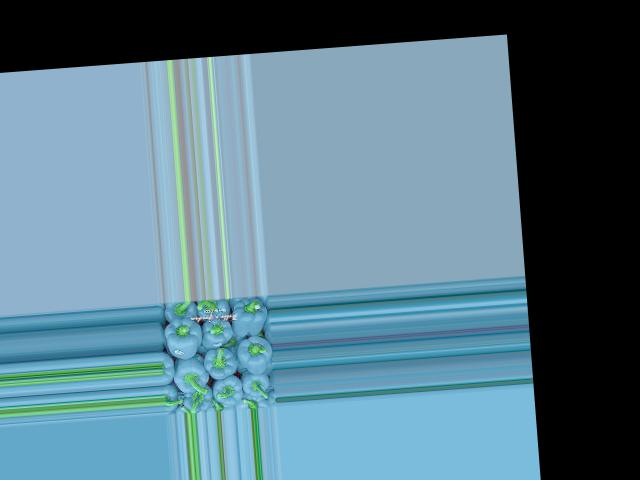bell_pepper: (159, 300, 199, 325)
